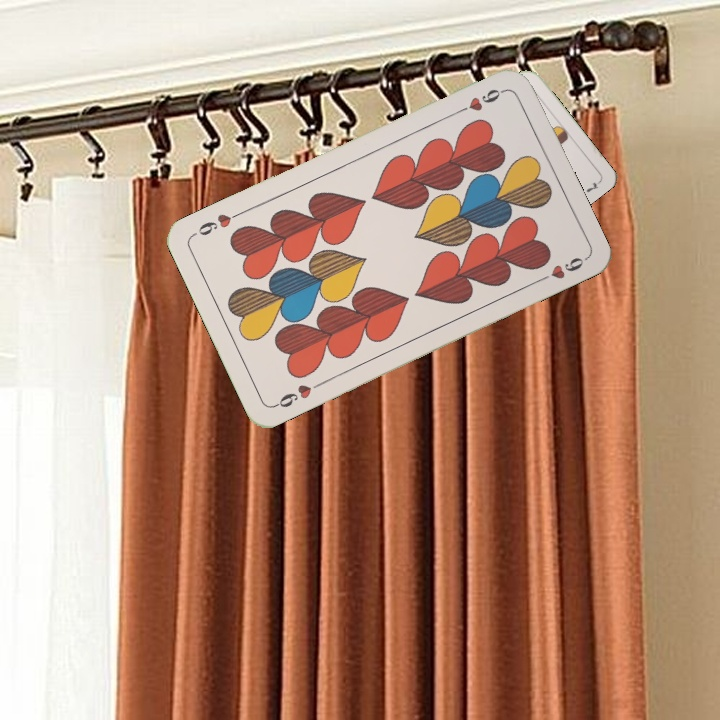H9: (270, 377, 325, 411), (452, 84, 508, 117)
